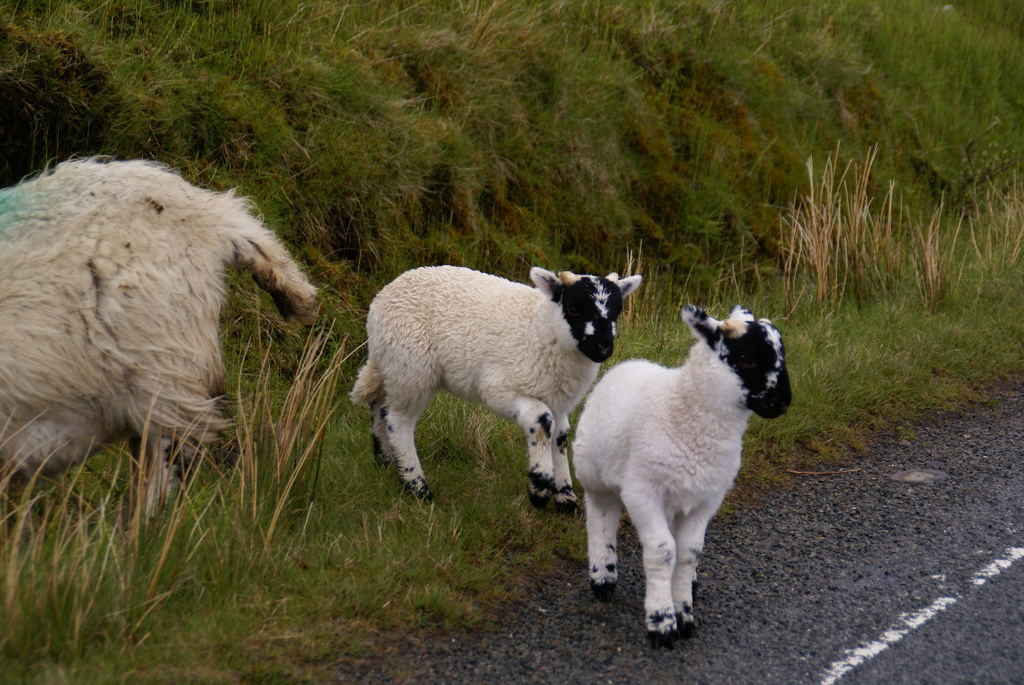sheep: (570, 302, 792, 651), (350, 264, 642, 512)
